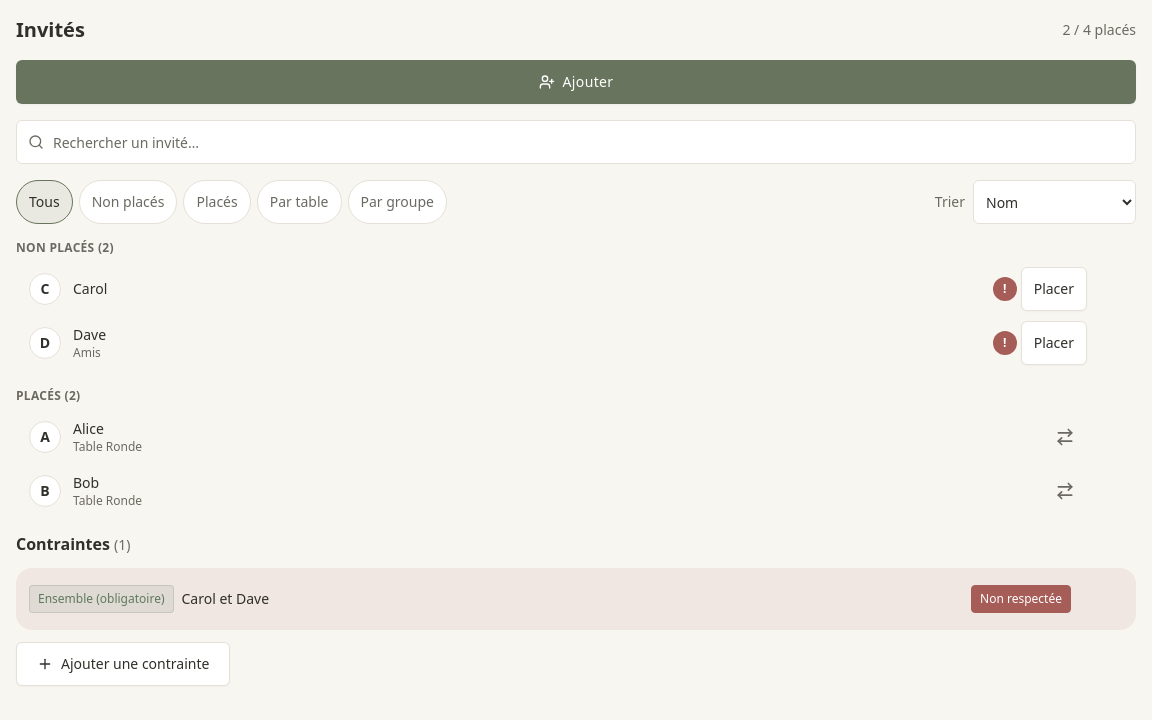
Scenario: GuestListPanel › groups guests by group in "Par groupe" view
The width and height of the screenshot is (1152, 720).
Click the button "Par groupe": (397,202) x1=348 y1=180 x2=447 y2=224
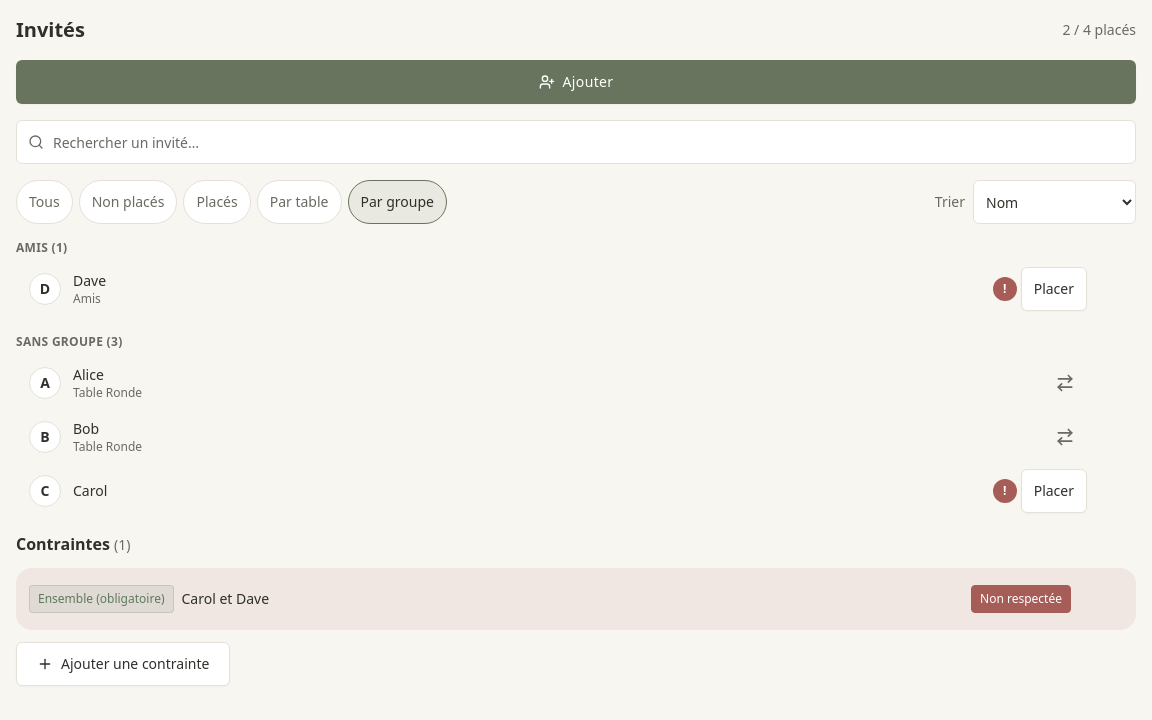
Expected: the element "Amis" shows "Dave", x1=17 y1=265 x2=989 y2=313
Now the element "Sans groupe" is shown, box x1=16 y1=334 x2=1136 y2=516
